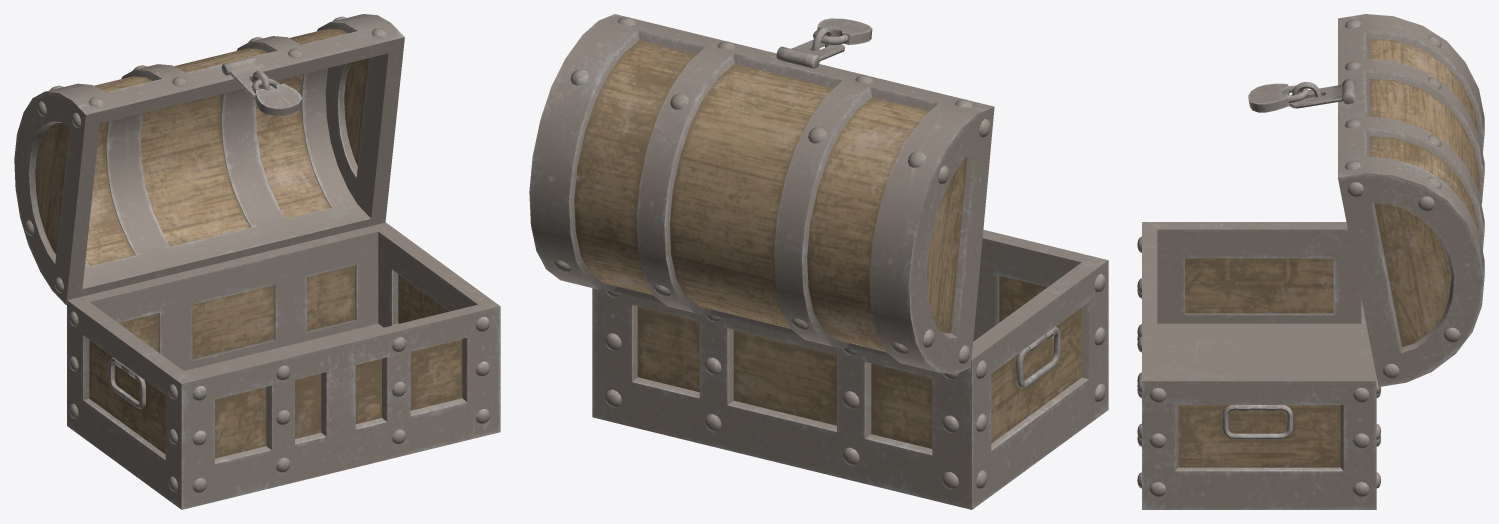
Rendered from Prop_Chest.fbx.
3 renders of one model, left to right at view 1: azimuth 30°, elevation 25°; view 2: azimuth 150°, elevation 25°; view 3: azimuth 270°, elevation 25°, orthographic. The views are drawn at different scales.
Parts seen in each view (by area): view 1: Object047, Object046; view 2: Object046, Object047; view 3: Object047, Object046.
Part boxes in pixels (bbox=[...]): Object047: bbox=[67, 222, 500, 509]; Object046: bbox=[14, 14, 404, 305]; Object046: bbox=[529, 14, 994, 374]; Object047: bbox=[592, 229, 1108, 509]; Object047: bbox=[1137, 222, 1381, 509]; Object046: bbox=[1248, 14, 1484, 386].
Bounding box in the file's own units: 75.33 × 67.72 × 74.99.
